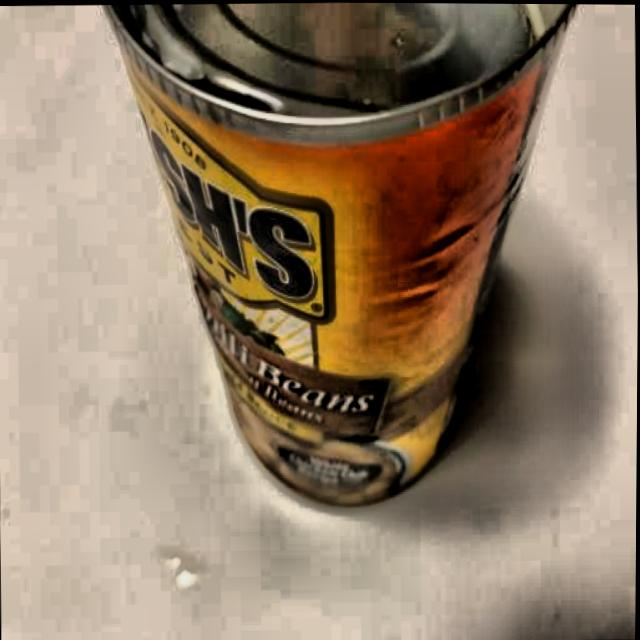Cans: (91, 1, 588, 518)
